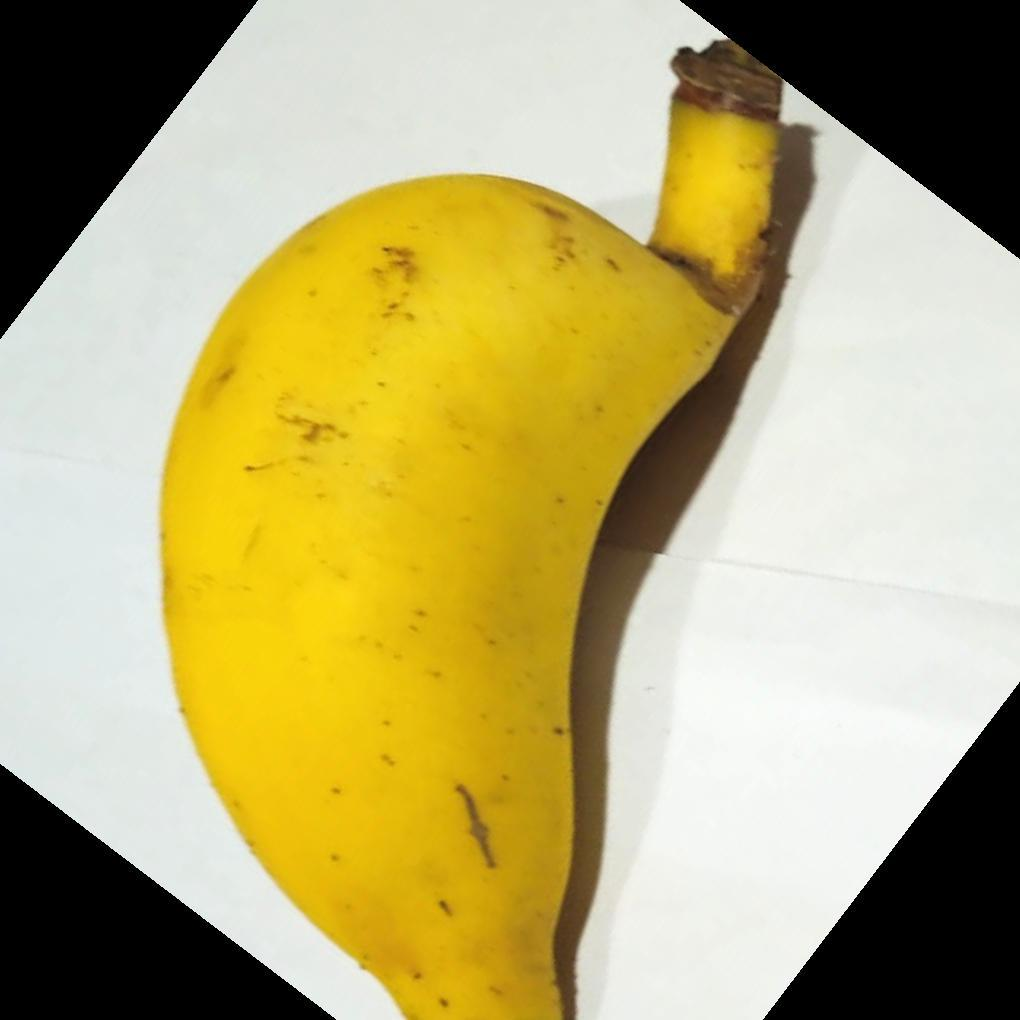Banana Ripe: (129, 58, 801, 1020)
